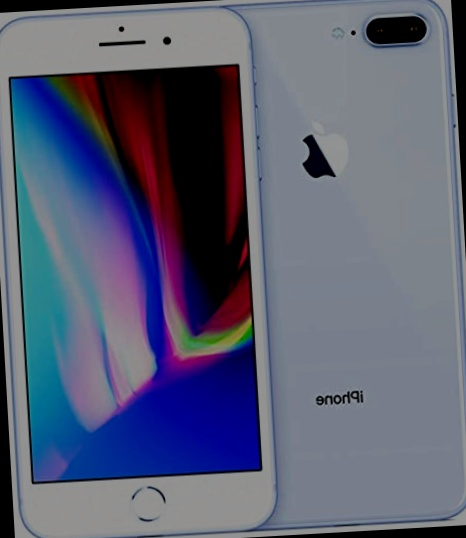iphone: (199, 4, 463, 531)
